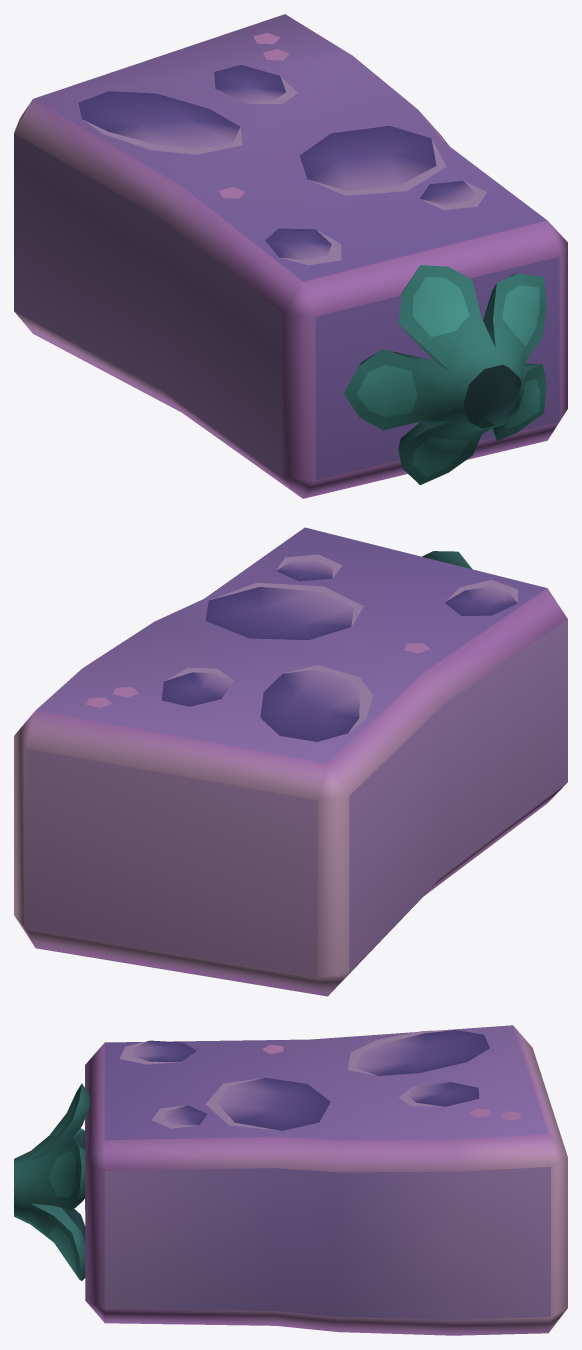
The model's file is sponge_01.fbx.
3 views of the same model, one above another, from view 1: azimuth 30°, elevation 25°; view 2: azimuth 150°, elevation 25°; view 3: azimuth 270°, elevation 25° (orthographic). The views are drawn at different scales.
Parts seen in each view (by area): view 1: sponge_01; view 2: sponge_01; view 3: sponge_01.
Boxes of the visible parts, x1,y1,x2,y2 form: sponge_01: (14, 14, 567, 498); sponge_01: (14, 527, 567, 996); sponge_01: (14, 1025, 567, 1335).
Bounding box in the file's own units: 120 × 85.94 × 213.
